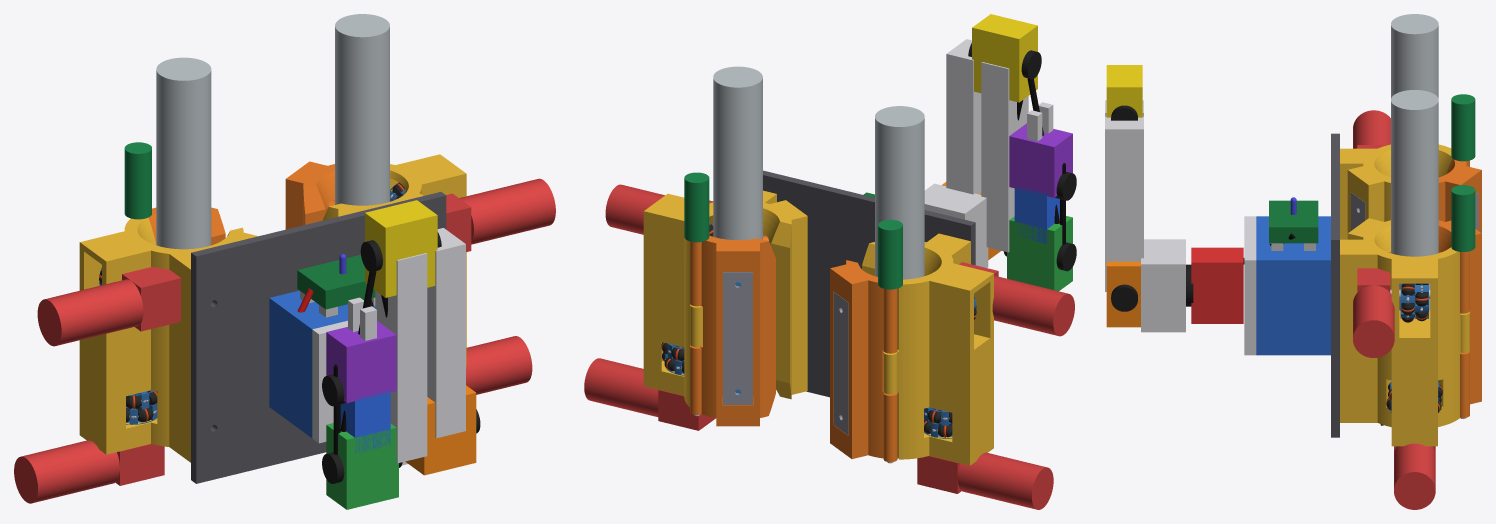
File: cart-arm-stowed-v3.glb
The picture shows the model from 3 angles, left to right: view 1: azimuth 30°, elevation 25°; view 2: azimuth 150°, elevation 25°; view 3: azimuth 270°, elevation 25°; orthographic projection. The views are drawn at different scales.
Parts seen in each view (by area): view 1: base_plate, hand_on_pipe_B_sleeve, track_pipe_B, track_pipe_C, arm_stowed_forearm, arm_stowed_upper_arm, battery, hand_on_pipe_B_drive_motor, hand_on_pipe_B_roll_motor, arm_stowed_servo_D_wrist_flex, arm_stowed_servo_C_elbow, arm_stowed_servo_F_gripper (+15 smaller); view 2: hand_on_pipe_B_sleeve, hand_on_pipe_C_sleeve, hand_on_pipe_C_jaw, base_plate, hand_on_pipe_B_jaw, track_pipe_C, track_pipe_B, arm_stowed_forearm, arm_stowed_upper_arm, hand_on_pipe_C_p60_cap, hand_on_pipe_B_roll_motor, arm_stowed_servo_C_elbow (+13 smaller); view 3: hand_on_pipe_C_sleeve, battery, track_pipe_C, arm_stowed_upper_arm, arm_stowed_shoulder_bracket, arm_stowed_servo_A_base, hand_on_pipe_B_sleeve, track_pipe_B, hand_on_pipe_C_jaw, base_plate, hand_on_pipe_C_drive_motor, hand_on_pipe_C_roll_motor (+13 smaller).
Part boxes in pixels (x1,y1,x2,y2): base_plate: (191,192,446,483); hand_on_pipe_B_sleeve: (79,217,258,462); track_pipe_B: (156,57,211,249); track_pipe_C: (335,14,389,205); arm_stowed_forearm: (375,253,427,463); arm_stowed_upper_arm: (427,228,465,438); battery: (269,290,375,437); hand_on_pipe_B_drive_motor: (37,279,143,346); hand_on_pipe_B_roll_motor: (14,440,119,503); arm_stowed_servo_D_wrist_flex: (326,423,398,509); arm_stowed_servo_C_elbow: (365,200,437,297); arm_stowed_servo_F_gripper: (326,321,396,402); hand_on_pipe_B_sleeve: (862,233,993,465); hand_on_pipe_C_sleeve: (643,190,807,406); hand_on_pipe_C_jaw: (690,235,775,426); base_plate: (763,170,975,397); hand_on_pipe_B_jaw: (830,260,897,462); track_pipe_C: (713,66,762,240); track_pipe_B: (875,106,924,458); arm_stowed_forearm: (981,62,1028,252); arm_stowed_upper_arm: (946,39,981,194); hand_on_pipe_C_p60_cap: (723,272,752,404); hand_on_pipe_B_roll_motor: (957,452,1053,509); arm_stowed_servo_C_elbow: (972,14,1037,102); hand_on_pipe_C_sleeve: (1340,218,1469,446); battery: (1256,216,1330,355); track_pipe_C: (1391,90,1438,310); arm_stowed_upper_arm: (1105,116,1143,291); arm_stowed_shoulder_bracket: (1141,239,1185,332); arm_stowed_servo_A_base: (1191,247,1243,323); hand_on_pipe_B_sleeve: (1340,144,1452,239); track_pipe_B: (1391,14,1438,98); hand_on_pipe_C_jaw: (1438,220,1481,417); base_plate: (1331,133,1339,437); hand_on_pipe_C_drive_motor: (1353,285,1394,357); hand_on_pipe_C_roll_motor: (1394,443,1435,509).
Bounding box in the file's own units: 332 × 253 × 252.
